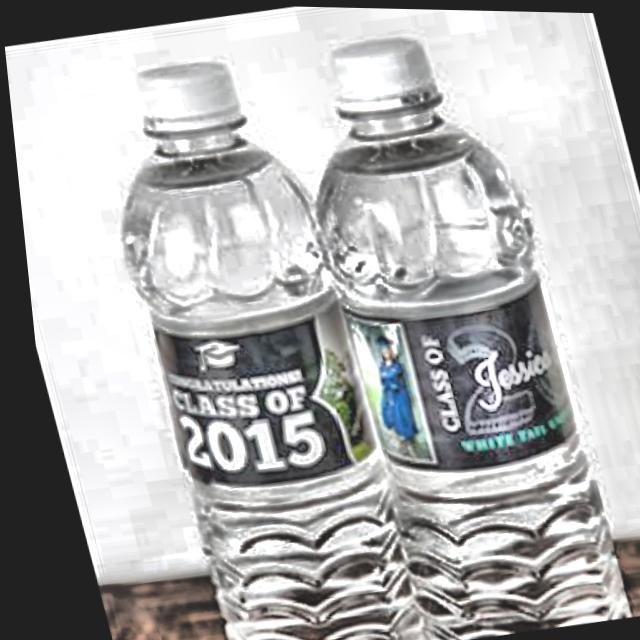Bottles: (247, 4, 638, 640), (71, 34, 419, 640)
